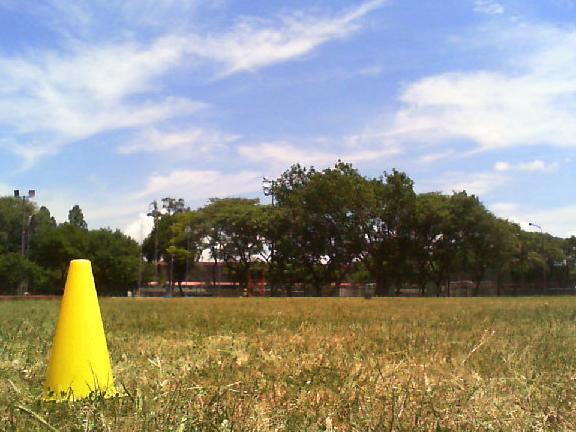0 cone: (36, 259, 127, 402)
